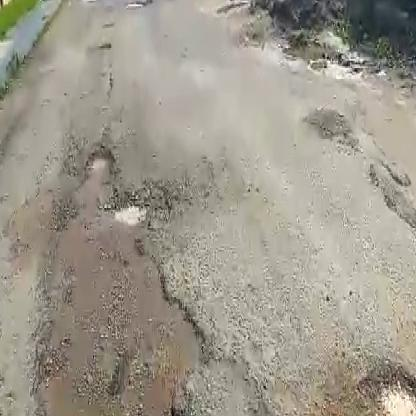pothole: (109, 181, 182, 231), (366, 364, 416, 416), (86, 144, 117, 175), (75, 0, 115, 4)
